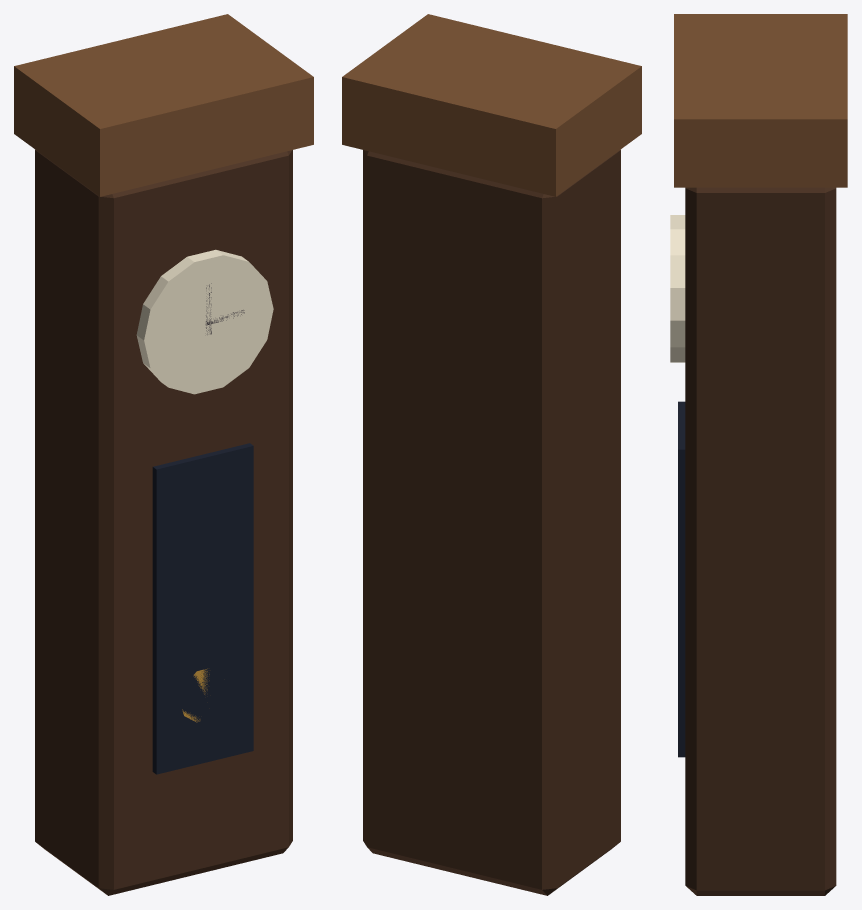
The model's file is clock.glb.
3 views of the same model, side by side, from view 1: azimuth 30°, elevation 25°; view 2: azimuth 150°, elevation 25°; view 3: azimuth 270°, elevation 25° (orthographic).
Parts seen in each view (by area): view 1: clock; view 2: clock; view 3: clock.
Part boxes in pixels (x1,y1,x2,y2): clock: (14,14,313,895); clock: (342,14,641,895); clock: (670,14,847,895).
Bounding box in the file's own units: 0.66 × 2.3 × 0.47.
